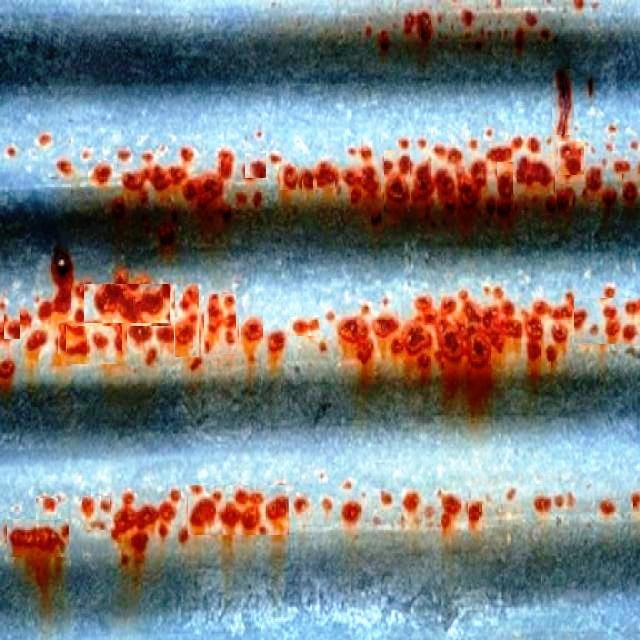Corrosion: (0, 265, 287, 386), (336, 288, 640, 382), (78, 485, 290, 564), (295, 478, 471, 540), (289, 312, 337, 356), (8, 527, 67, 560), (183, 172, 225, 211), (532, 492, 577, 518), (557, 70, 574, 138), (519, 156, 555, 186), (497, 161, 515, 216), (412, 160, 434, 204), (435, 169, 456, 210), (561, 142, 585, 175), (386, 173, 410, 204), (314, 160, 340, 188), (460, 174, 480, 210), (343, 168, 363, 204), (362, 164, 380, 198), (417, 10, 434, 44), (150, 165, 172, 190), (218, 148, 235, 180), (471, 159, 488, 188), (122, 171, 146, 190), (558, 187, 577, 210), (600, 498, 619, 521), (587, 166, 604, 190), (488, 146, 513, 162), (624, 181, 640, 204), (169, 165, 188, 184), (283, 164, 298, 188), (603, 186, 619, 208), (398, 155, 414, 174), (404, 11, 416, 34), (300, 169, 313, 190), (448, 147, 464, 164), (180, 146, 195, 164), (252, 161, 267, 178), (616, 160, 632, 174), (360, 145, 373, 162), (528, 137, 540, 152), (547, 196, 558, 212), (513, 136, 525, 150), (632, 492, 640, 512), (384, 159, 394, 174), (507, 489, 517, 502), (271, 153, 282, 164), (418, 136, 428, 148), (400, 138, 410, 148)
